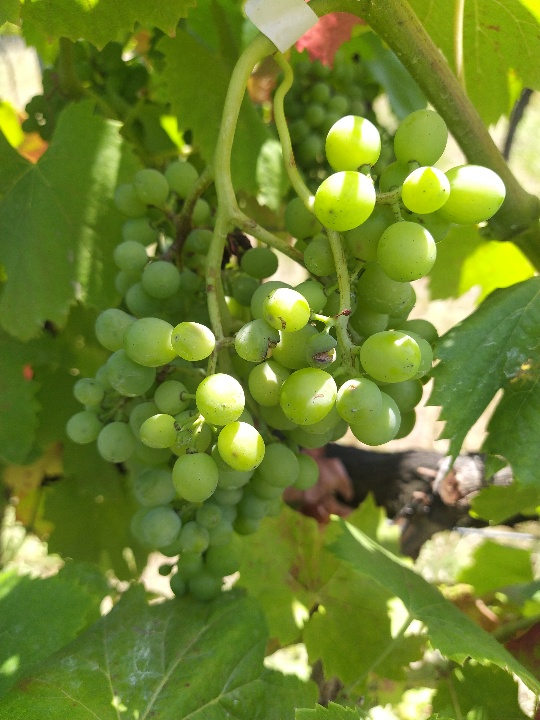grape: (63, 108, 509, 603)
